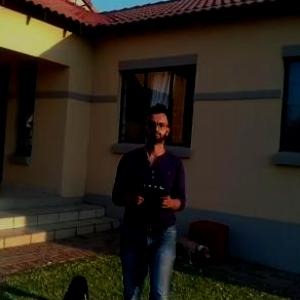follow: (108, 98, 189, 299)
null: (174, 232, 216, 269)
